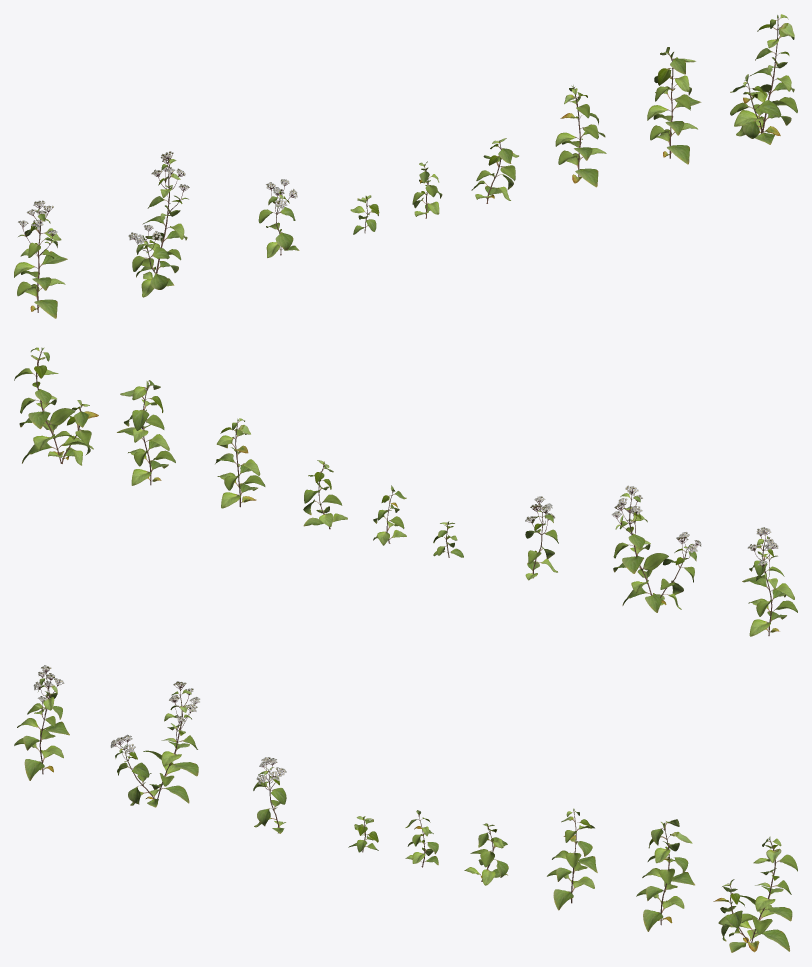
Rendered from shrub_01.glb.
The picture shows the model from 3 angles, top to bottom: view 1: azimuth 30°, elevation 25°; view 2: azimuth 150°, elevation 25°; view 3: azimuth 330°, elevation 25°; orthographic projection. The views are drawn at different scales.
Parts seen in each view (by area): view 1: shrub_01_a; view 2: shrub_01_a; view 3: shrub_01_a.
Boxes of the visible parts, left/top/right/bottom form: shrub_01_a: left=14, top=14, right=797, bottom=318; shrub_01_a: left=14, top=347, right=797, bottom=636; shrub_01_a: left=14, top=665, right=797, bottom=952.
Size of the model in its own units: 2.59 by 0.396 by 0.2185.
1 material, 1 textured.
